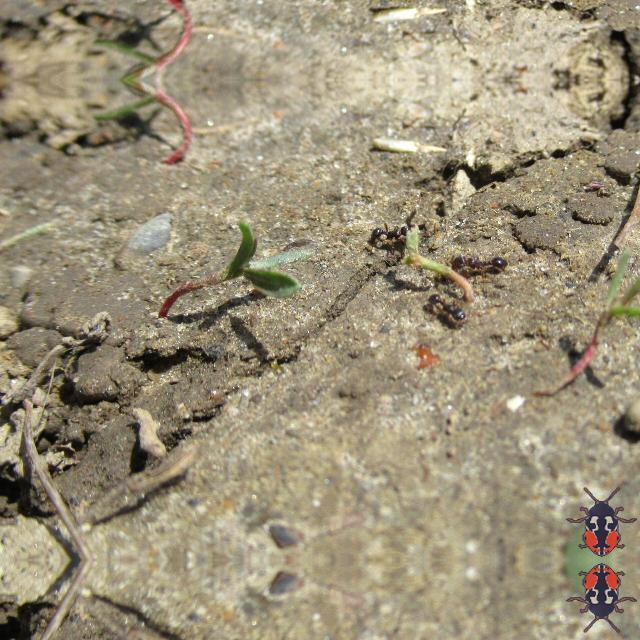Tetramorium: (426, 284, 472, 328), (450, 247, 510, 277), (366, 220, 412, 246)
